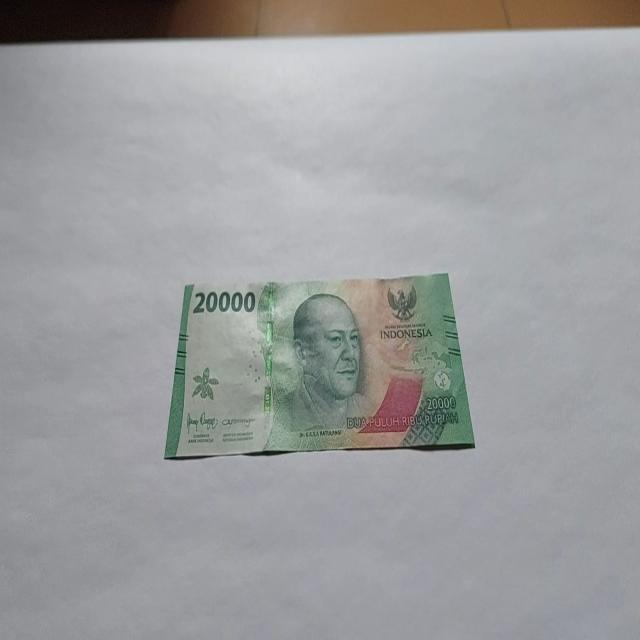dua puluh ribu rupiah: (164, 271, 476, 461)
